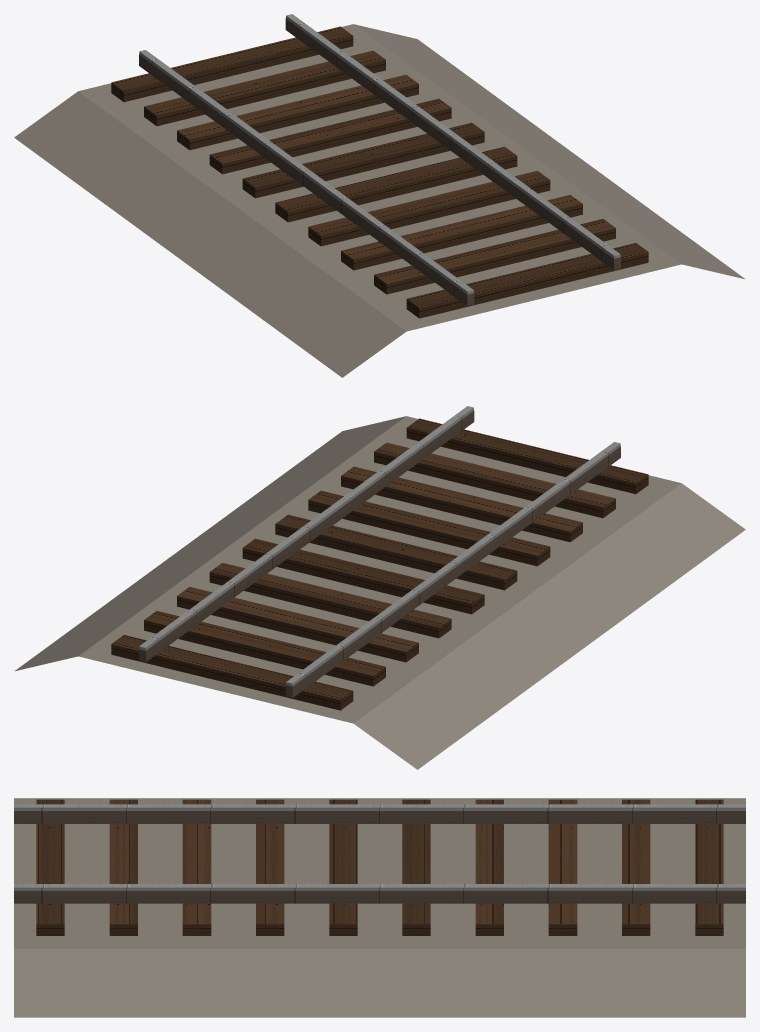
File: modulo_de_trilho.glb
3 renders of one model, top to bottom at view 1: azimuth 30°, elevation 25°; view 2: azimuth 150°, elevation 25°; view 3: azimuth 270°, elevation 25°, orthographic. The views are drawn at different scales.
Parts seen in each view (by area): view 1: modulo_de_trilho_liso, modulo_de_trilho; view 2: modulo_de_trilho_liso, modulo_de_trilho; view 3: modulo_de_trilho_liso, modulo_de_trilho.
Boxes of the visible parts, x1=… form: modulo_de_trilho_liso: x1=14, y1=24, x2=745, y2=377; modulo_de_trilho: x1=111, y1=14, x2=648, y2=318; modulo_de_trilho_liso: x1=14, y1=416, x2=745, y2=769; modulo_de_trilho: x1=111, y1=406, x2=648, y2=710; modulo_de_trilho_liso: x1=14, y1=798, x2=745, y2=1017; modulo_de_trilho: x1=14, y1=799, x2=745, y2=935.
Size of the model in its own units: 4.4 by 0.58 by 6.2.
3 materials, 2 textured.
